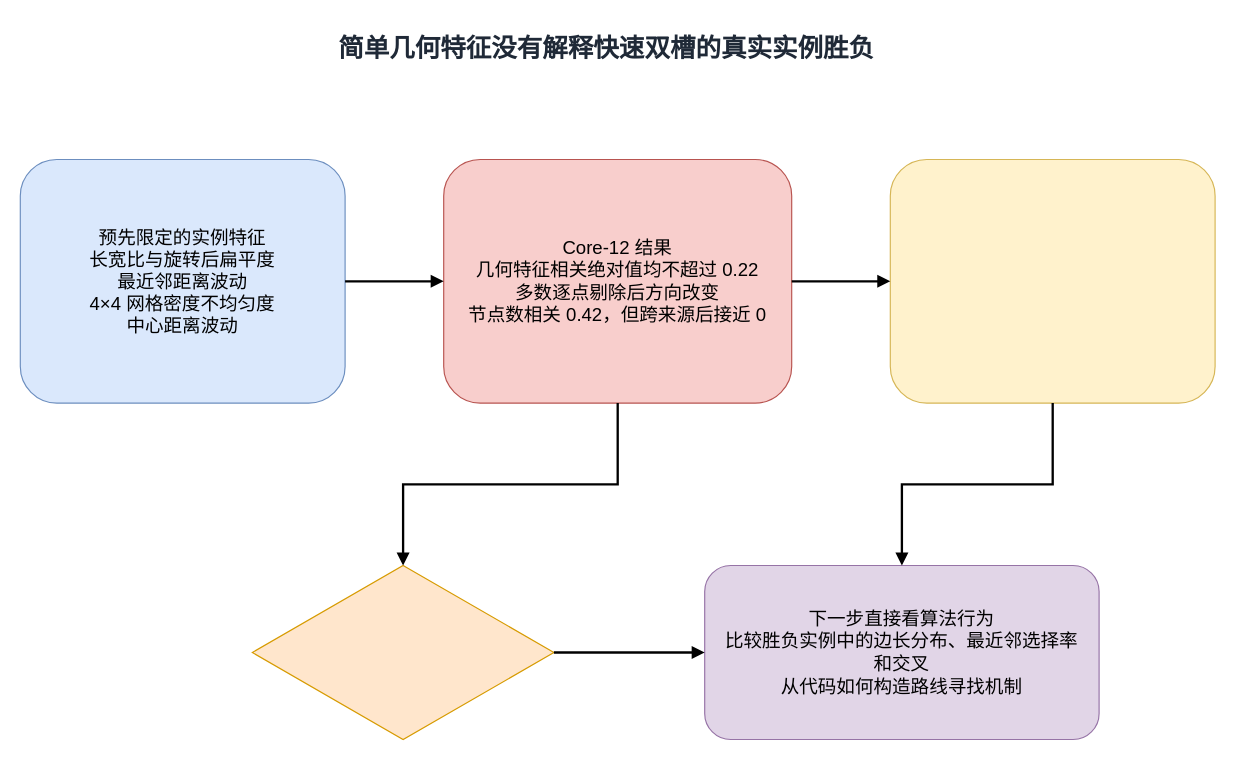
This 1235x760 diagram has some shape labels left out. Each missing label, with the centre of its shape:
直接反例 kroA100/200：狭长且双槽大胜 tsp225/rat575/rat783：同样狭长但双槽失败 形状比例不是充分条件: pixel 1052 280
自动决策：不构造特征定向实例 避免用弱相关继续追逐假设: pixel 402 652
